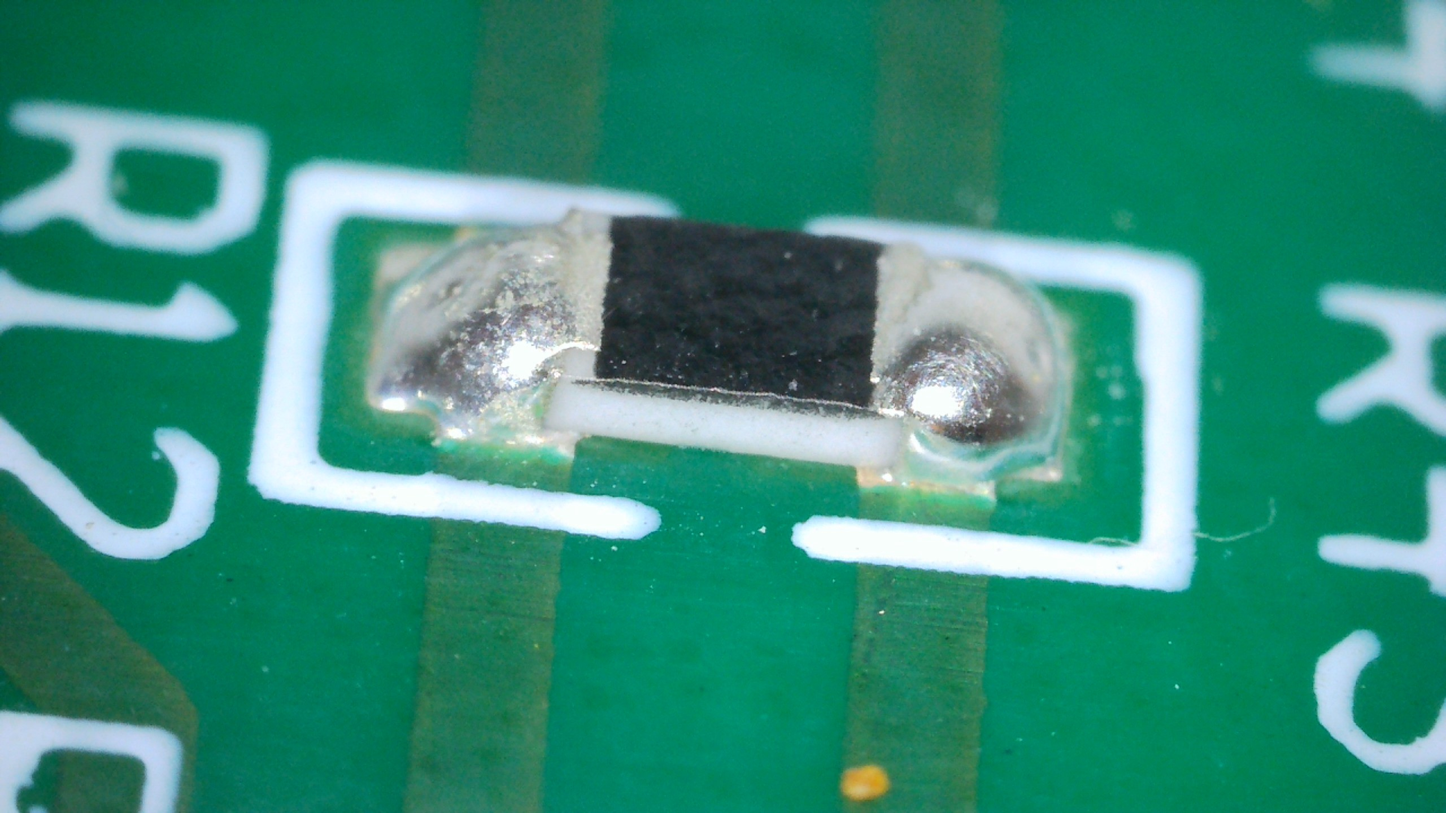NG: (368, 210, 612, 433), (872, 244, 1062, 472), (886, 330, 1032, 445)
